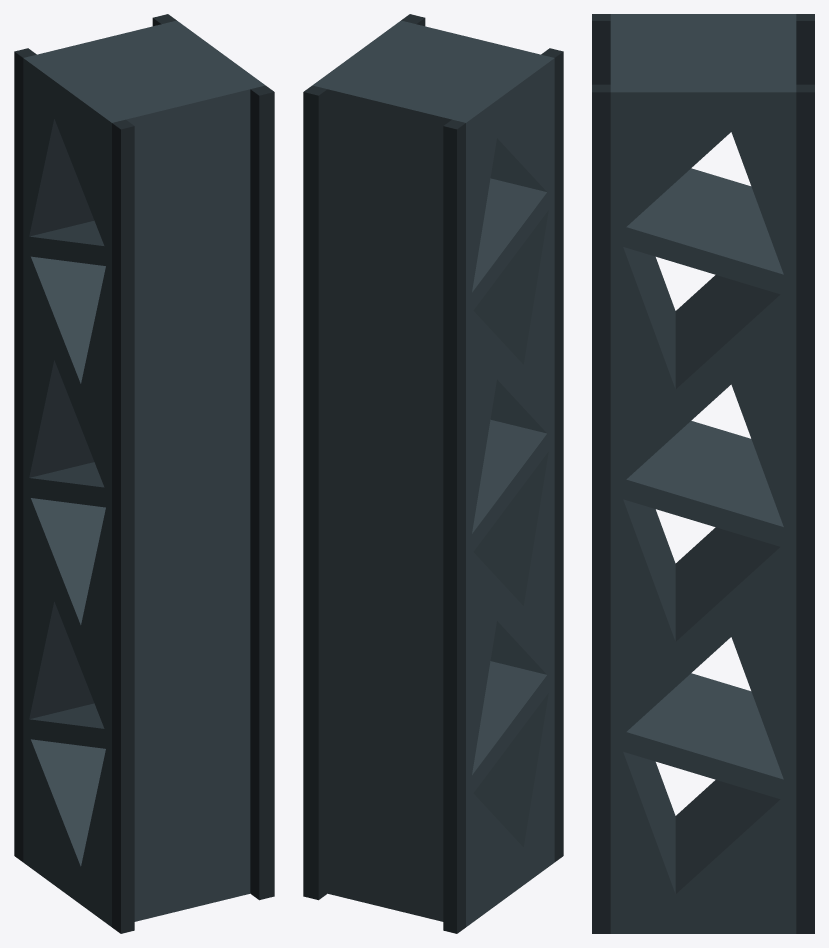
Rendered from Metal_Beam.fbx.
The picture shows the model from 3 angles, left to right: view 1: azimuth 30°, elevation 25°; view 2: azimuth 150°, elevation 25°; view 3: azimuth 270°, elevation 25°; orthographic projection. The views are drawn at different scales.
Parts seen in each view (by area): view 1: Pillar; view 2: Pillar; view 3: Pillar.
Part boxes in pixels (bbox=[...]): Pillar: bbox=[14, 14, 274, 933]; Pillar: bbox=[303, 14, 563, 933]; Pillar: bbox=[592, 14, 814, 933].
Size of the model in its own units: 200 by 1000 by 240.
Materials: 1 (1 with a texture image).
